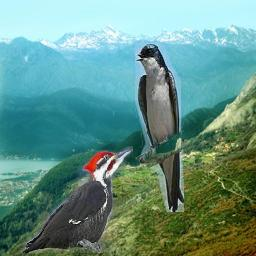Swallow: (136, 44, 185, 213)
Woodpecker: (21, 147, 133, 254)
